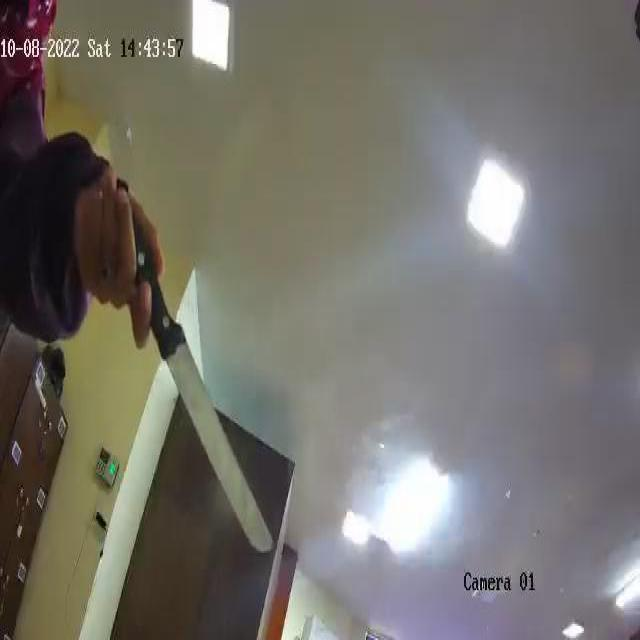Knife: (110, 187, 277, 552)
